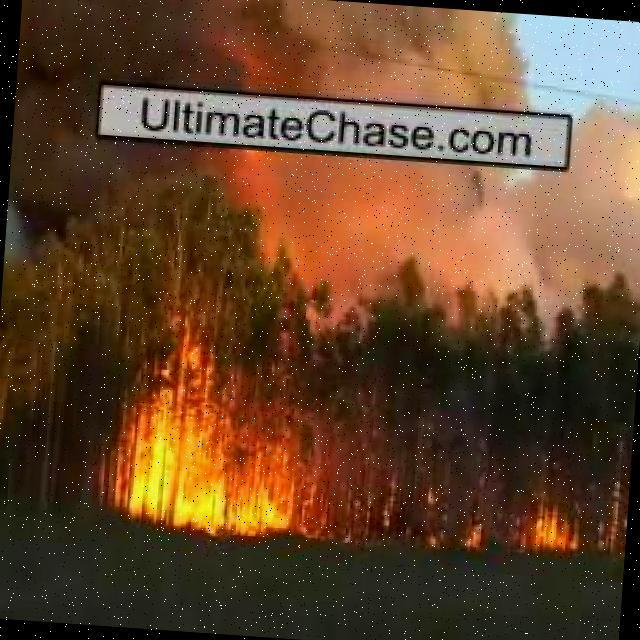Fire: (109, 373, 306, 544), (523, 502, 583, 554), (312, 482, 363, 540), (608, 485, 624, 552), (459, 524, 480, 547)
